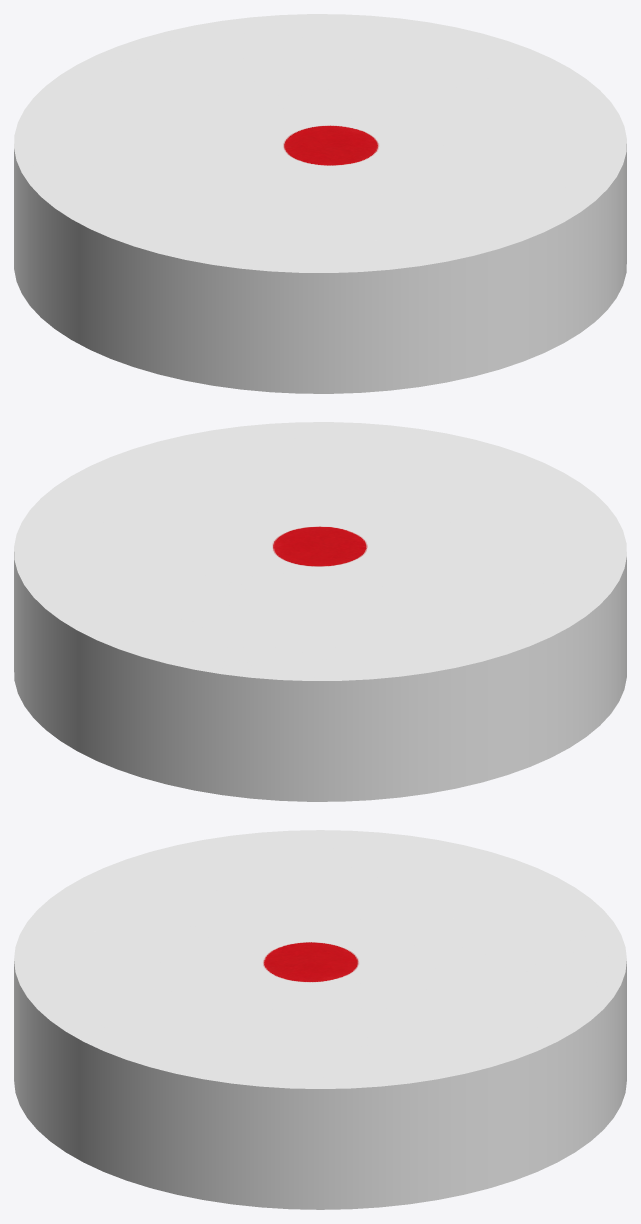
The model's file is StrikerDefault.fbx.
3 renders of one model, top to bottom at view 1: azimuth 30°, elevation 25°; view 2: azimuth 150°, elevation 25°; view 3: azimuth 270°, elevation 25°, orthographic.
Visible parts, largest first — view 1: Striker64lowpoly; view 2: Striker64lowpoly; view 3: Striker64lowpoly.
Boxes of the visible parts, box(x1,y1,x2,y2) form: Striker64lowpoly: box(14, 14, 626, 393); Striker64lowpoly: box(14, 422, 626, 801); Striker64lowpoly: box(14, 830, 626, 1209).
Size of the model in its own units: 0.0828 by 0.018 by 0.0828.
